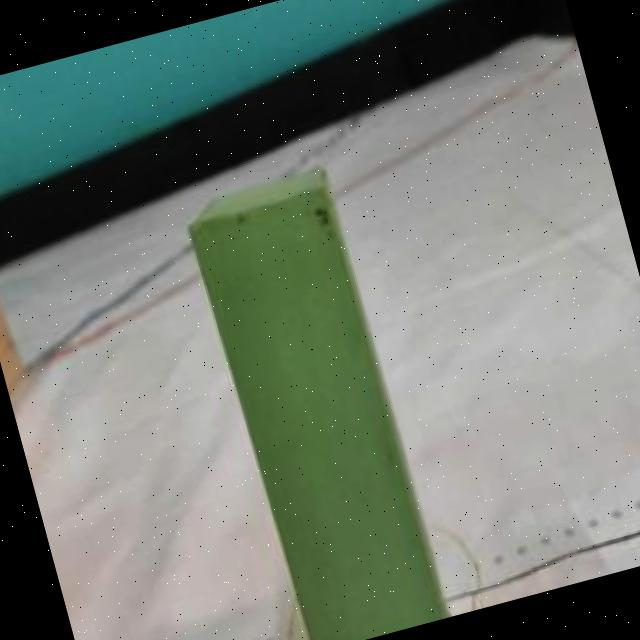greenbox: (179, 158, 452, 640)
